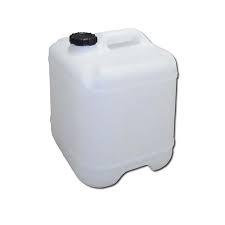HDPE: (36, 12, 195, 202)
